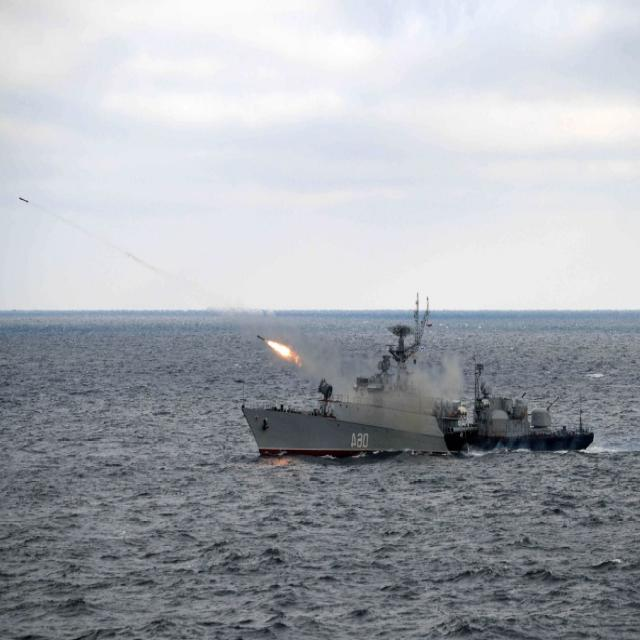navalvessels: (244, 297, 458, 491), (449, 336, 620, 464)
